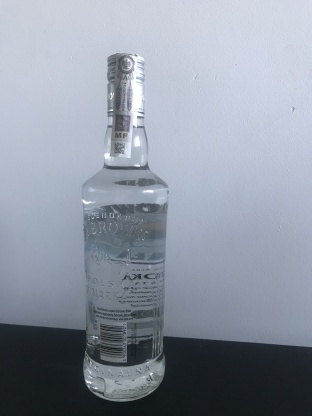nakretka: (104, 49, 147, 122)
